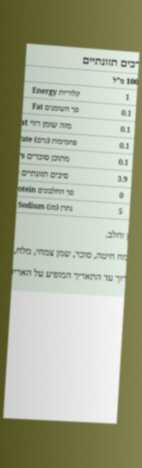carbs: (118, 139, 131, 152)
energy: (124, 91, 131, 103)
fat: (120, 106, 133, 120)
protein: (118, 189, 125, 202)
